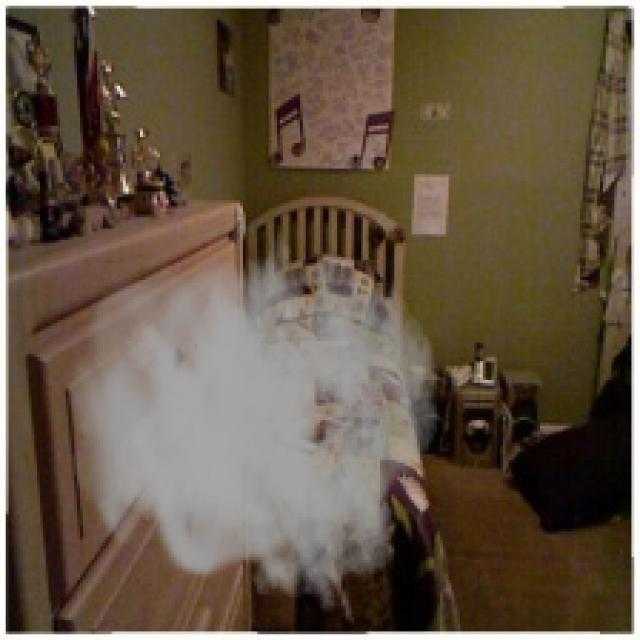Smoke: (68, 212, 440, 612)
